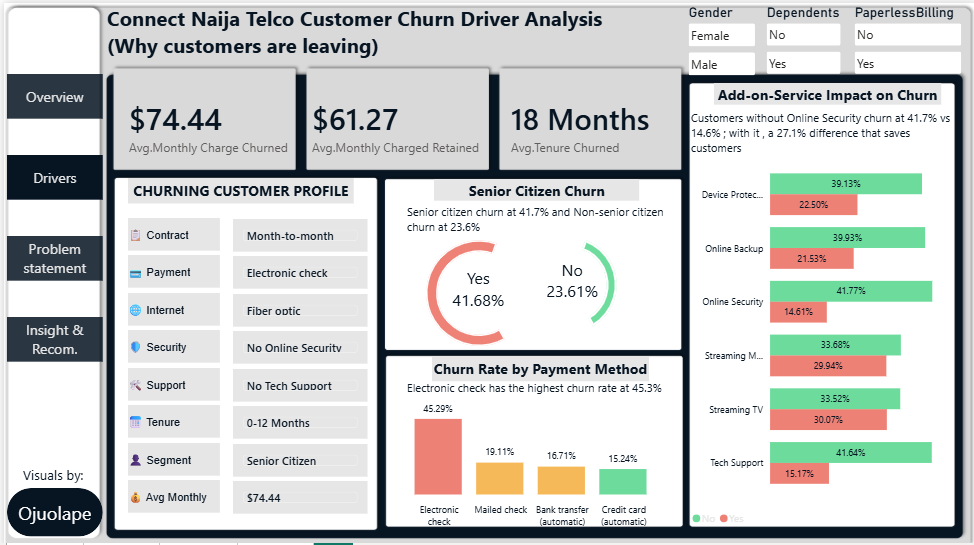

The page's visual inventory and layout, read from the dashboard file:
{"tool":"powerbi","page":{"name":"Page 2","canvas":[1280,720],"ordinal":1},"visuals":[{"type":"cardVisual","fields":{"Data":["WA_Fn-UseC_-Telco-Customer-Churn.Avg.Monthly Charge Churned"]},"box":[136.1,84,270.4,156.2],"z":0},{"type":"cardVisual","fields":{"Data":["WA_Fn-UseC_-Telco-Customer-Churn.Avg.Monthly Charged Retained"]},"box":[376.3,84,282.2,156.2],"z":1000},{"type":"cardVisual","fields":{"Data":["WA_Fn-UseC_-Telco-Customer-Churn.Avg.Tenure Churned"]},"box":[638.3,84,243.6,156.2],"z":2000},{"type":"clusteredColumnChart","fields":{"Y":["WA_Fn-UseC_-Telco-Customer-Churn.Churn Rate"],"Category":["WA_Fn-UseC_-Telco-Customer-Churn.PaymentMethod"]},"box":[490.5,507.3,394.8,189.8],"z":3000},{"type":"clusteredBarChart","fields":{"Category":["Telco-Service.Add on Service"],"Y":["Telco-Service.Service Churn Rate"],"Series":["Telco-Service.Churn Value"]},"box":[900.4,183.1,379.6,514],"z":4000},{"type":"donutChart","fields":{"Category":["WA_Fn-UseC_-Telco-Customer-Churn.Senior Citizen"],"Y":["WA_Fn-UseC_-Telco-Customer-Churn.Churn Rate"]},"box":[487.1,275.5,398.1,189.8],"z":5000},{"type":"donutChart","fields":{"Category":["WA_Fn-UseC_-Telco-Customer-Churn.Senior Citizen"],"Y":["WA_Fn-UseC_-Telco-Customer-Churn.Churn Rate"]},"box":[425,287.2,399.8,189.8],"z":6000},{"type":"donutChart","fields":{"Category":["WA_Fn-UseC_-Telco-Customer-Churn.Senior Citizen"],"Y":["WA_Fn-UseC_-Telco-Customer-Churn.Churn Rate"]},"box":[552.7,287.2,381.3,168],"z":7000},{"type":"shape","box":[136.1,0,722.3,73.9],"z":8000},{"type":"shape","box":[3.4,413.2,126,58.8],"z":9000},{"type":"shape","box":[3.4,94.1,126,58.8],"z":10000},{"type":"shape","box":[3.4,200.5,126,58.8],"z":11000},{"type":"shape","box":[3.4,306.8,126,58.8],"z":12000},{"type":"shape","box":[3.4,638.3,126,63.8],"z":13000},{"type":"shape","box":[0,587.9,129.3,63.8],"z":14000},{"type":"shape","box":[162.7,282.2,121,43.2],"z":15000},{"type":"cardVisual","fields":{"Data":["Telco-Service.Profile contract"]},"box":[301.2,283.9,177.1,43.2],"z":16000},{"type":"shape","box":[162.7,331.6,121,43.2],"z":17000},{"type":"cardVisual","fields":{"Data":["Telco-Service.Profile Payment"]},"box":[301.2,333.3,177.1,43.2],"z":18000},{"type":"shape","box":[162.7,381,121,43.2],"z":19000},{"type":"cardVisual","fields":{"Data":["Telco-Service.Profile Internet"]},"box":[301.2,382.7,177.1,43.2],"z":20000},{"type":"shape","box":[162.7,430.4,121,43.2],"z":21000},{"type":"cardVisual","fields":{"Data":["Telco-Service.Profile security"]},"box":[301.2,432,177.1,43.2],"z":22000},{"type":"shape","box":[162.7,479.7,121,43.2],"z":23000},{"type":"cardVisual","fields":{"Data":["Telco-Service.Profile TchSupport"]},"box":[301.2,481.4,177.1,43.2],"z":24000},{"type":"shape","box":[162.7,529.1,121,43.2],"z":25000},{"type":"cardVisual","fields":{"Data":["Telco-Service.Profile Tenure"]},"box":[301.2,530.8,177.1,43.2],"z":26000},{"type":"shape","box":[162.7,578.5,121,43.2],"z":27000},{"type":"cardVisual","fields":{"Data":["Telco-Service.Profile Segment"]},"box":[301.2,580.1,177.1,43.2],"z":28000},{"type":"shape","box":[162.7,627.8,121,43.2],"z":29000},{"type":"cardVisual","fields":{"Data":["Telco-Service.Profile Avg. Charge"]},"box":[301.2,629.5,177.1,43.2],"z":30000},{"type":"shape","box":[162.9,230.1,297.3,33.6],"z":31000},{"type":"shape","box":[566.1,231.8,270.4,28.6],"z":32000},{"type":"shape","box":[530.8,260.4,342.7,48.7],"z":33000},{"type":"shape","box":[562.7,465.3,285.6,31.9],"z":34000},{"type":"shape","box":[530.8,482.1,342.7,48.7],"z":35000},{"type":"shape","box":[934,105.8,299,28.6],"z":36000},{"type":"shape","box":[903.7,134.4,357.8,72.2],"z":37000},{"type":"advancedSlicerVisual","fields":{"Values":["WA_Fn-UseC_-Telco-Customer-Churn.Gender"]},"box":[900.4,0,89,97.4],"z":39000},{"type":"advancedSlicerVisual","fields":{"Values":["WA_Fn-UseC_-Telco-Customer-Churn.Dependents"]},"box":[1002.8,0,99.1,94.1],"z":40000},{"type":"advancedSlicerVisual","fields":{"Values":["WA_Fn-UseC_-Telco-Customer-Churn.PaperlessBilling"]},"box":[1118.7,0,142.8,94.1],"z":41000}]}

Visuals, with their boxes on the page's 1280x720 design canvas (x1, y1, x2, y2). These are canvas units, not pixel positions in the 974x545 screenshot, which may show the page scaled, cropped or inside an application window:
cardVisual - WA_Fn-UseC_-Telco-Customer-Churn.Avg.Monthly Charge Churned: [x1=136, y1=84, x2=406, y2=240]
cardVisual - WA_Fn-UseC_-Telco-Customer-Churn.Avg.Monthly Charged Retained: [x1=376, y1=84, x2=658, y2=240]
cardVisual - WA_Fn-UseC_-Telco-Customer-Churn.Avg.Tenure Churned: [x1=638, y1=84, x2=882, y2=240]
clusteredColumnChart - WA_Fn-UseC_-Telco-Customer-Churn.Churn Rate x WA_Fn-UseC_-Telco-Customer-Churn.PaymentMethod: [x1=490, y1=507, x2=885, y2=697]
clusteredBarChart - Telco-Service.Add on Service x Telco-Service.Service Churn Rate: [x1=900, y1=183, x2=1280, y2=697]
donutChart - WA_Fn-UseC_-Telco-Customer-Churn.Senior Citizen x WA_Fn-UseC_-Telco-Customer-Churn.Churn Rate: [x1=487, y1=276, x2=885, y2=465]
donutChart - WA_Fn-UseC_-Telco-Customer-Churn.Senior Citizen x WA_Fn-UseC_-Telco-Customer-Churn.Churn Rate: [x1=425, y1=287, x2=825, y2=477]
donutChart - WA_Fn-UseC_-Telco-Customer-Churn.Senior Citizen x WA_Fn-UseC_-Telco-Customer-Churn.Churn Rate: [x1=553, y1=287, x2=934, y2=455]
shape: [x1=136, y1=0, x2=858, y2=74]
shape: [x1=3, y1=413, x2=129, y2=472]
shape: [x1=3, y1=94, x2=129, y2=153]
shape: [x1=3, y1=200, x2=129, y2=259]
shape: [x1=3, y1=307, x2=129, y2=366]
shape: [x1=3, y1=638, x2=129, y2=702]
shape: [x1=0, y1=588, x2=129, y2=652]
shape: [x1=163, y1=282, x2=284, y2=325]
cardVisual - Telco-Service.Profile contract: [x1=301, y1=284, x2=478, y2=327]
shape: [x1=163, y1=332, x2=284, y2=375]
cardVisual - Telco-Service.Profile Payment: [x1=301, y1=333, x2=478, y2=376]
shape: [x1=163, y1=381, x2=284, y2=424]
cardVisual - Telco-Service.Profile Internet: [x1=301, y1=383, x2=478, y2=426]
shape: [x1=163, y1=430, x2=284, y2=474]
cardVisual - Telco-Service.Profile security: [x1=301, y1=432, x2=478, y2=475]
shape: [x1=163, y1=480, x2=284, y2=523]
cardVisual - Telco-Service.Profile TchSupport: [x1=301, y1=481, x2=478, y2=525]
shape: [x1=163, y1=529, x2=284, y2=572]
cardVisual - Telco-Service.Profile Tenure: [x1=301, y1=531, x2=478, y2=574]
shape: [x1=163, y1=578, x2=284, y2=622]
cardVisual - Telco-Service.Profile Segment: [x1=301, y1=580, x2=478, y2=623]
shape: [x1=163, y1=628, x2=284, y2=671]
cardVisual - Telco-Service.Profile Avg. Charge: [x1=301, y1=630, x2=478, y2=673]
shape: [x1=163, y1=230, x2=460, y2=264]
shape: [x1=566, y1=232, x2=836, y2=260]
shape: [x1=531, y1=260, x2=874, y2=309]
shape: [x1=563, y1=465, x2=848, y2=497]
shape: [x1=531, y1=482, x2=874, y2=531]
shape: [x1=934, y1=106, x2=1233, y2=134]
shape: [x1=904, y1=134, x2=1262, y2=207]
advancedSlicerVisual - WA_Fn-UseC_-Telco-Customer-Churn.Gender: [x1=900, y1=0, x2=989, y2=97]
advancedSlicerVisual - WA_Fn-UseC_-Telco-Customer-Churn.Dependents: [x1=1003, y1=0, x2=1102, y2=94]
advancedSlicerVisual - WA_Fn-UseC_-Telco-Customer-Churn.PaperlessBilling: [x1=1119, y1=0, x2=1262, y2=94]
